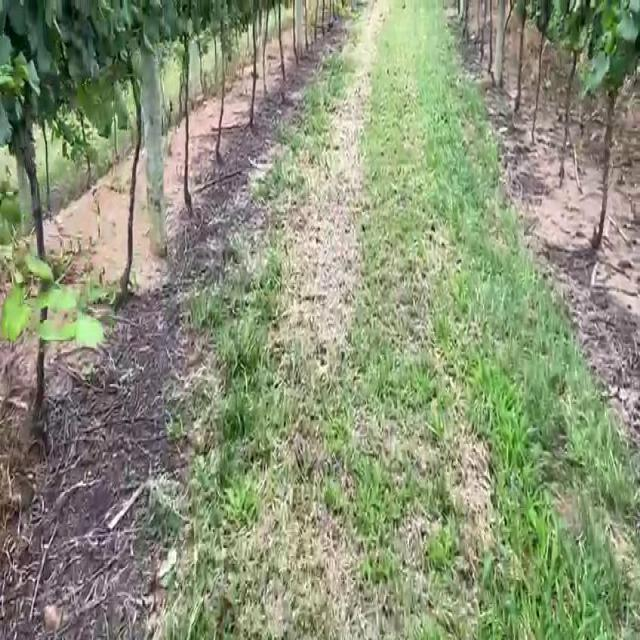tree trunk: (141, 31, 166, 254)
